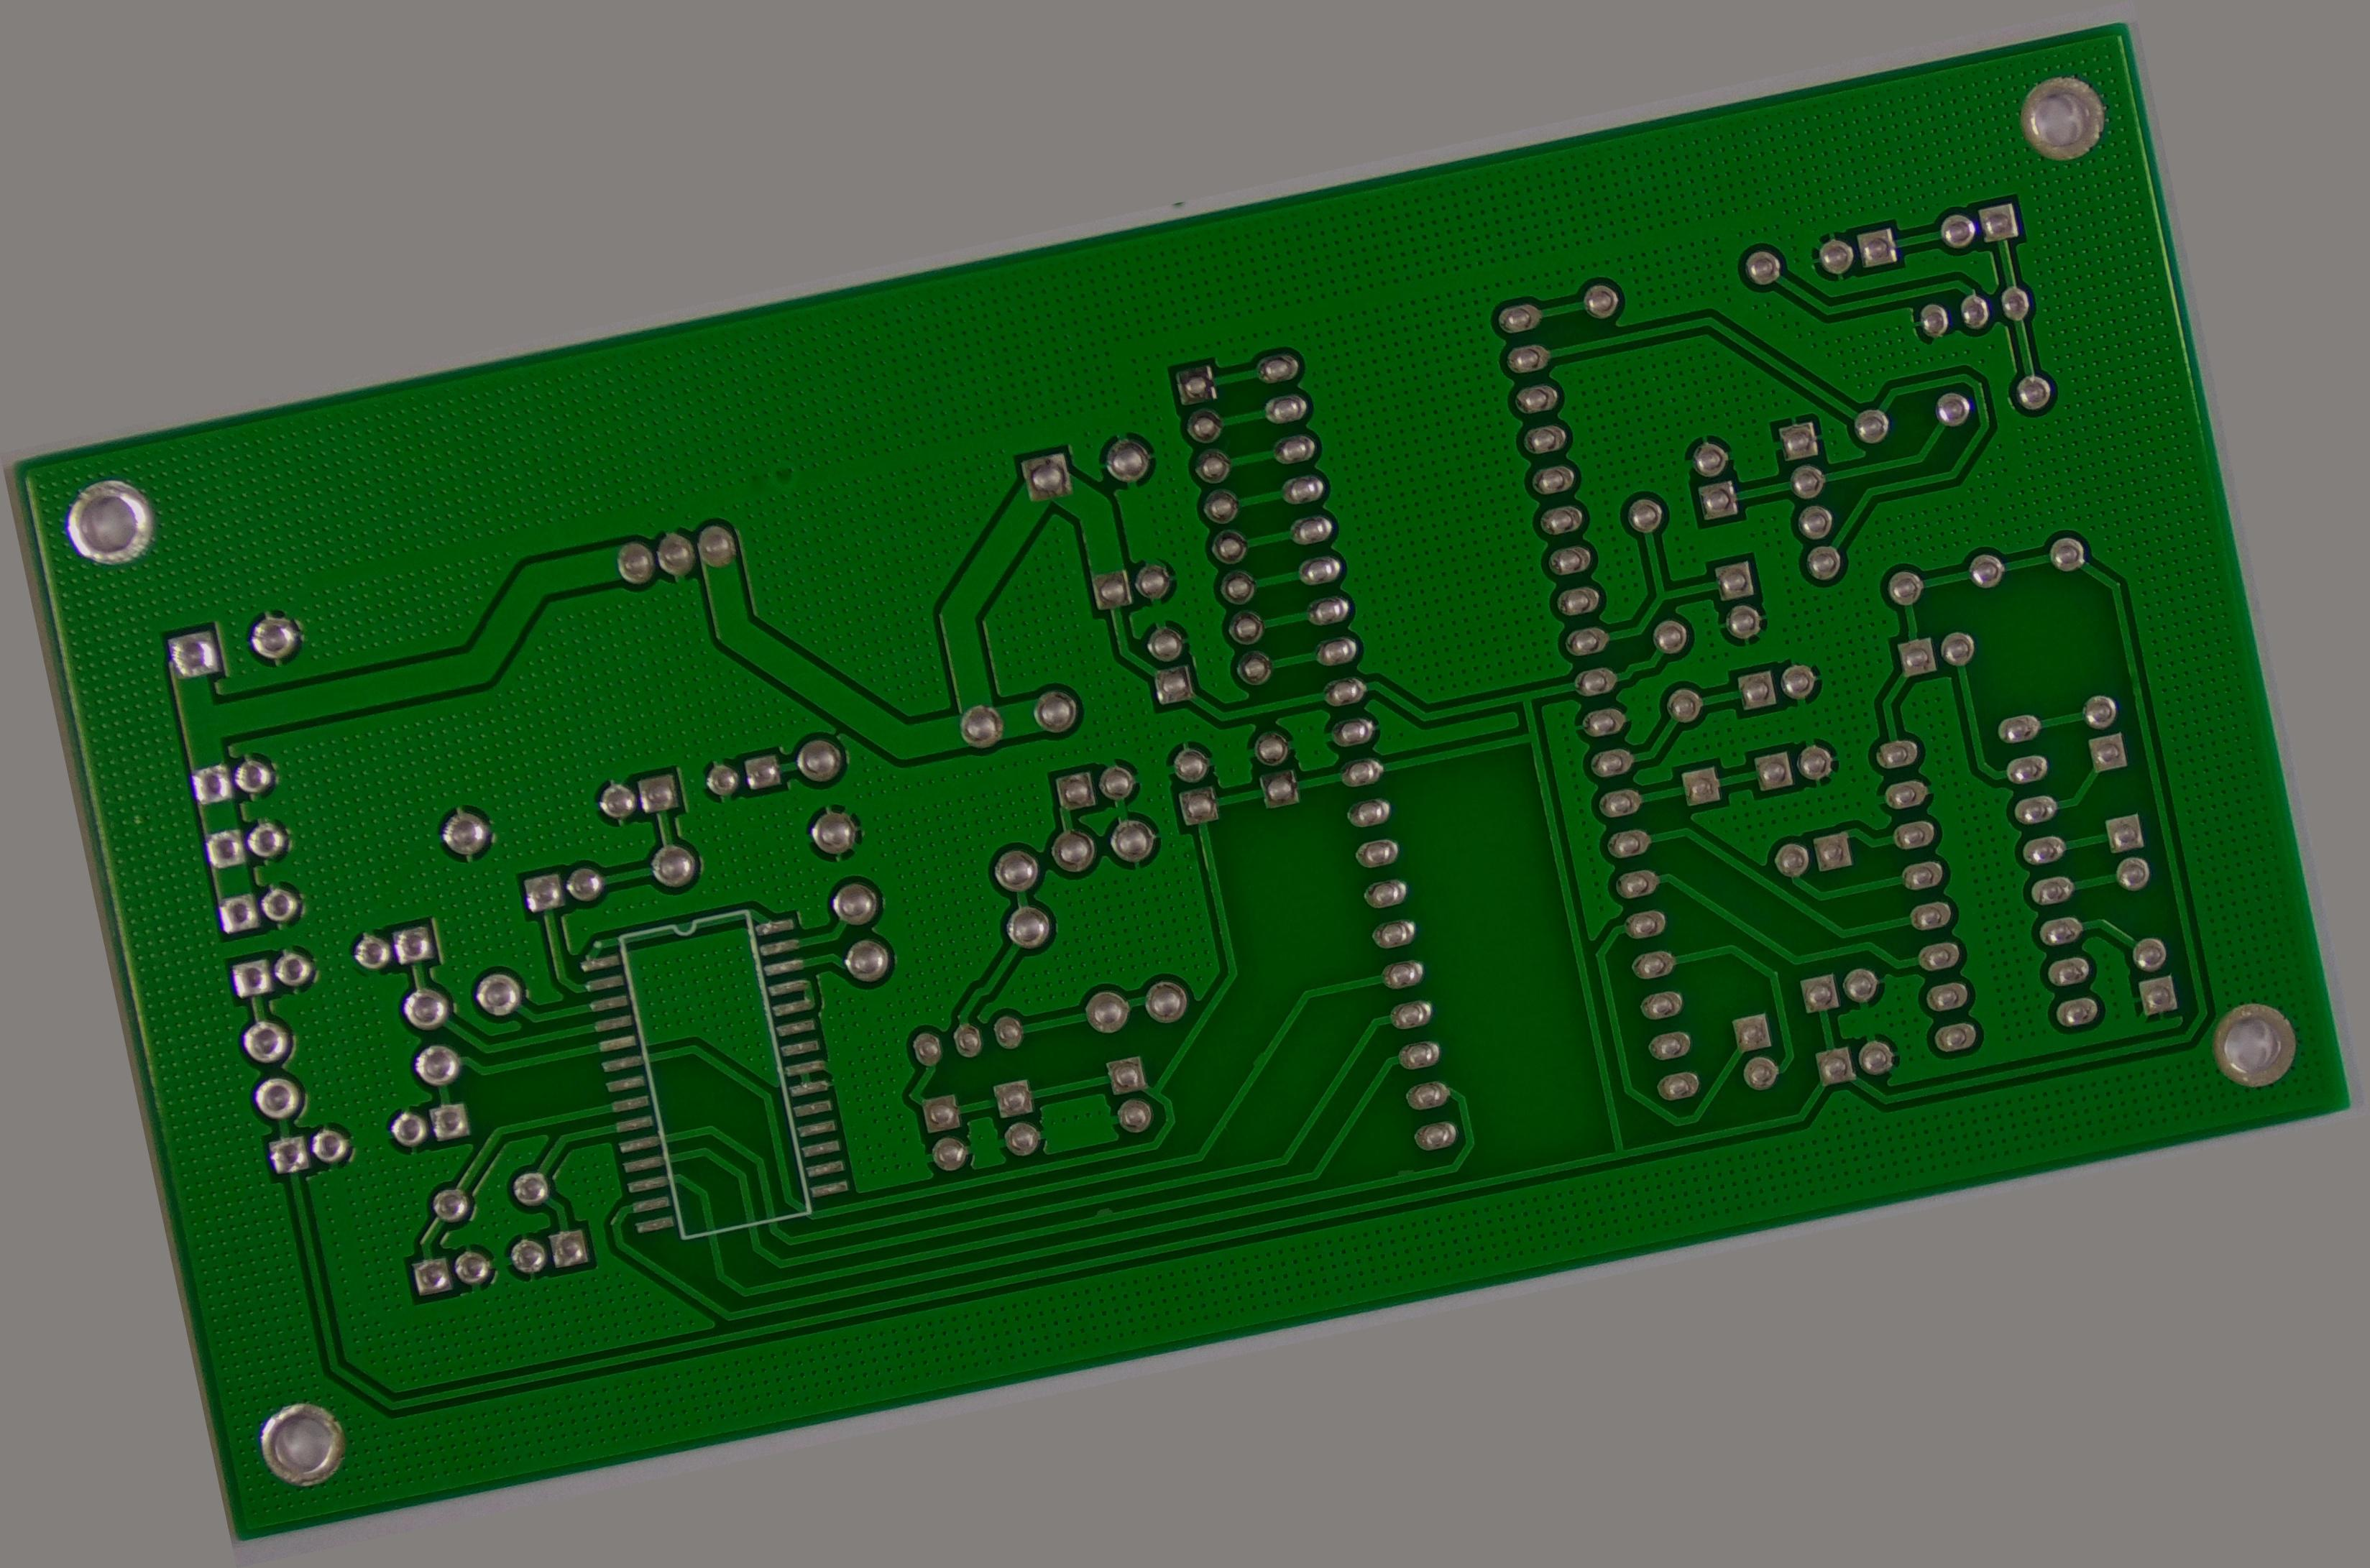spur: (1234, 1036, 1283, 1081), (1080, 1197, 1124, 1230), (1385, 1158, 1420, 1193)
